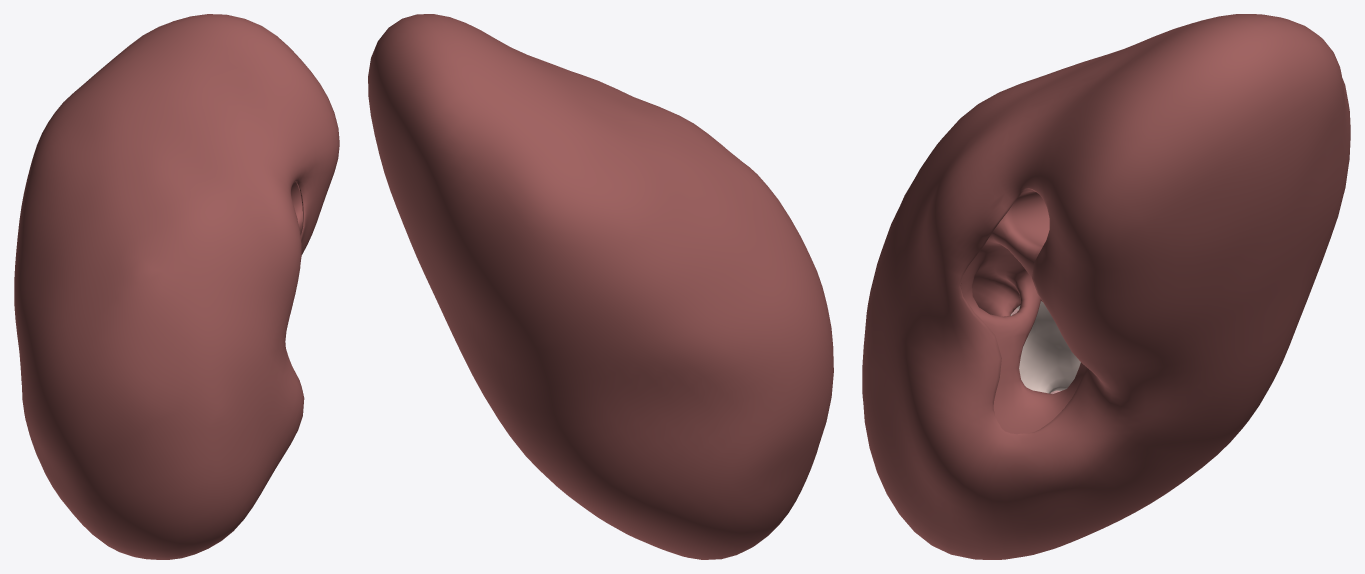
The model's file is kidney-r.glb.
3 views of the same model, side by side, from view 1: azimuth 30°, elevation 25°; view 2: azimuth 150°, elevation 25°; view 3: azimuth 270°, elevation 25° (orthographic). The views are drawn at different scales.
Parts seen in each view (by area): view 1: VH_F_kidney_capsule_R; view 2: VH_F_kidney_capsule_R; view 3: VH_F_kidney_capsule_R, VH_F_outer_cortex_of_kidney_R.
Boxes of the visible parts, x1,y1,x2,y2 form: VH_F_kidney_capsule_R: [14, 14, 339, 559]; VH_F_kidney_capsule_R: [368, 14, 833, 559]; VH_F_kidney_capsule_R: [862, 14, 1350, 559]; VH_F_outer_cortex_of_kidney_R: [1010, 301, 1080, 393].
Bounding box in the file's own units: 0.0799 × 0.1065 × 0.0757.
